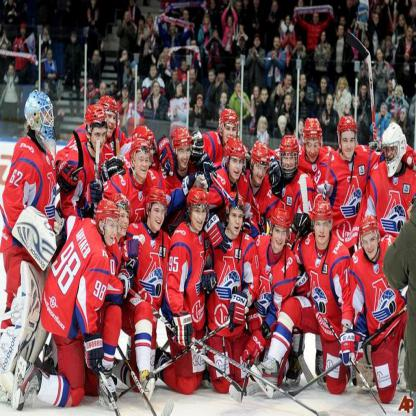face: (363, 233, 379, 261), (92, 128, 108, 154), (341, 132, 356, 159), (230, 209, 244, 236), (152, 205, 166, 231), (136, 154, 150, 180), (316, 221, 331, 245), (192, 207, 207, 231), (104, 220, 117, 247), (274, 226, 288, 250), (118, 209, 130, 237), (106, 112, 118, 138), (41, 111, 53, 137), (254, 163, 268, 185), (307, 140, 319, 164), (230, 159, 243, 181), (224, 126, 237, 147), (179, 149, 191, 170), (283, 156, 296, 175), (387, 147, 398, 168), (144, 146, 155, 167), (354, 97, 360, 110), (299, 123, 305, 135), (286, 97, 292, 109), (300, 87, 306, 99), (262, 90, 268, 102), (321, 80, 328, 90), (302, 76, 308, 87), (287, 76, 293, 87), (236, 60, 242, 71), (190, 71, 196, 82), (101, 85, 107, 96), (197, 99, 204, 108), (399, 17, 405, 27), (328, 95, 333, 107), (274, 39, 280, 49), (209, 73, 215, 83), (173, 73, 179, 83), (177, 85, 183, 95), (154, 85, 160, 95), (137, 90, 142, 102), (408, 29, 413, 40), (94, 51, 99, 62), (261, 123, 267, 132), (364, 40, 370, 49), (297, 42, 303, 51), (396, 91, 402, 100), (255, 38, 261, 47), (220, 74, 226, 83), (236, 84, 242, 93), (123, 53, 129, 62), (151, 68, 157, 77), (123, 89, 129, 98), (9, 67, 15, 76), (378, 51, 383, 61), (362, 86, 367, 96), (389, 81, 394, 91), (222, 95, 227, 105), (192, 42, 197, 52), (280, 123, 286, 131), (382, 108, 387, 117), (376, 6, 381, 15), (314, 15, 319, 24), (401, 113, 406, 122), (184, 12, 189, 21), (171, 25, 176, 34), (255, 88, 260, 97), (72, 35, 77, 44), (48, 52, 53, 61), (273, 5, 279, 12), (21, 28, 27, 35), (88, 84, 94, 91), (339, 28, 344, 36), (341, 19, 346, 27), (228, 18, 233, 26), (182, 63, 187, 71), (214, 31, 219, 39), (237, 4, 242, 12), (126, 14, 131, 22), (111, 86, 116, 94), (44, 28, 49, 36), (39, 27, 44, 35), (387, 41, 392, 48), (340, 84, 345, 91), (205, 17, 210, 24), (211, 2, 216, 9), (148, 18, 153, 25), (375, 16, 379, 24), (322, 34, 326, 42), (287, 18, 291, 26), (255, 2, 260, 8), (140, 21, 144, 28), (133, 68, 137, 75), (244, 3, 249, 8)
